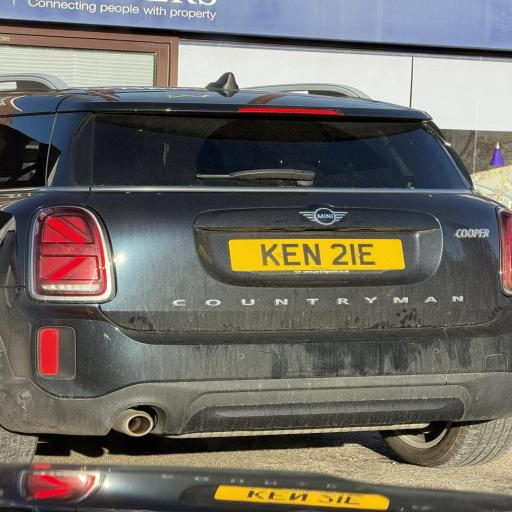numberplates: (229, 239, 404, 273)
